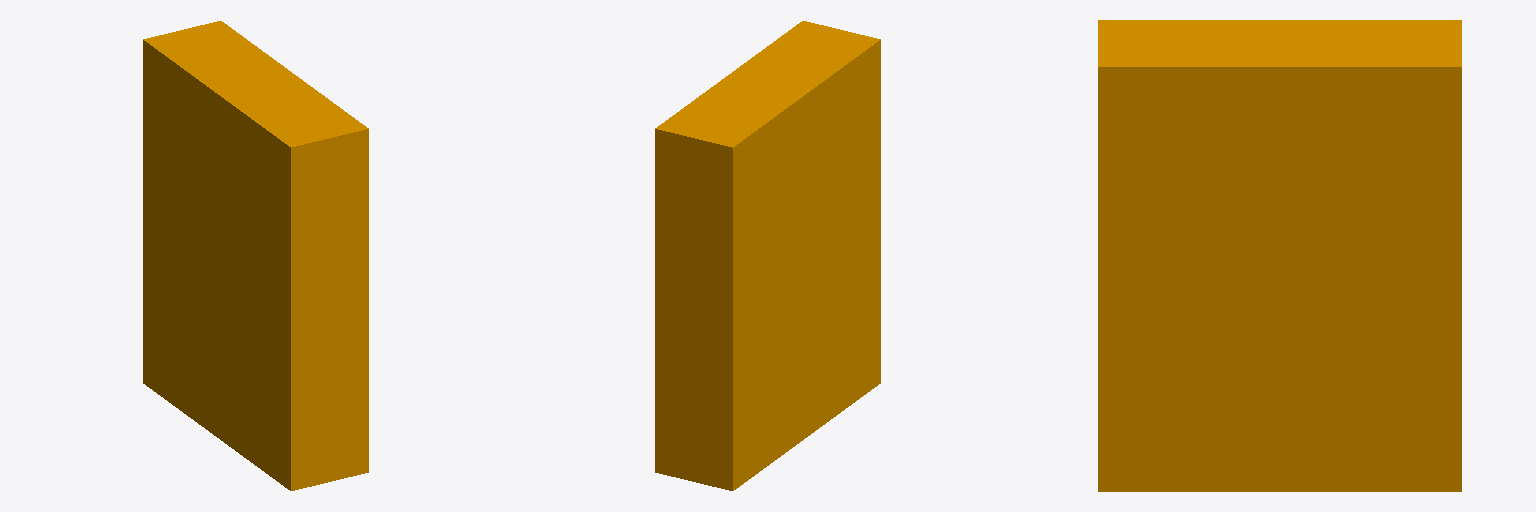
The robot description file, URDF, robot "corn_flakes_medium_model":
<robot name="corn_flakes_medium_model">
  <link name="corn_flakes_medium">
    <inertial>
      <mass value="0.500000" />
      <origin xyz="0.000000 0.000000 0.147500"/>
      <inertia ixx="0.005831" ixy="0.000000" ixz="0.000000" iyy="0.003831" iyz="-0.000000" izz="0.002409" />
    </inertial>
    <visual>
      <geometry>
        <mesh filename="package://manipulation_objects/meshes/corn_flakes_medium.stl" />
      </geometry>
    </visual>
    <collision>
      <geometry>
        <mesh filename="package://manipulation_objects/meshes/corn_flakes_medium.stl" />
      </geometry>
    </collision>
  </link>
  <gazebo reference="corn_flakes_medium">
    <material>Gazebo/Grey</material>
  </gazebo>
</robot>

--- Render facts (derived) ---
The picture shows the robot from 3 angles, left to right: view 1: azimuth 30°, elevation 25°; view 2: azimuth 150°, elevation 25°; view 3: azimuth 270°, elevation 25°; orthographic projection.
Model corn_flakes_medium_model with 1 links and 0 joints (none), rooted at corn_flakes_medium, posed all joints at 0.
Links seen in each view (by area): view 1: corn_flakes_medium; view 2: corn_flakes_medium; view 3: corn_flakes_medium.
Boxes of the visible links, x1,y1,x2,y2 form: corn_flakes_medium: [143, 21, 368, 490]; corn_flakes_medium: [655, 21, 880, 490]; corn_flakes_medium: [1098, 20, 1461, 491].
Bounding box of the posed robot: 0.07 × 0.23 × 0.295 m (x, y, z).
Meshes: 1 distinct files referenced, 1 mesh visuals loaded (1 binary STL).
